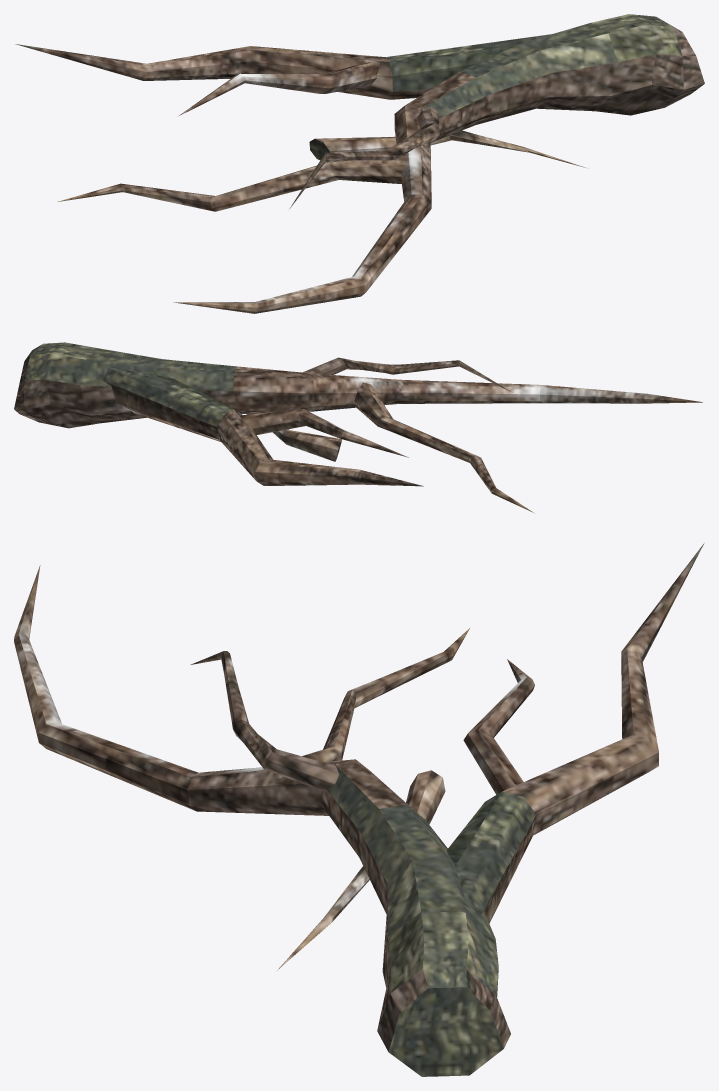
Rendered from Oak_Fallen_001.fbx.
3 views of the same model, one above another, from view 1: azimuth 30°, elevation 25°; view 2: azimuth 150°, elevation 25°; view 3: azimuth 270°, elevation 25° (orthographic). The views are drawn at different scales.
Parts seen in each view (by area): view 1: Tree_Oak_DeadTrunk; view 2: Tree_Oak_DeadTrunk; view 3: Tree_Oak_DeadTrunk.
Boxes of the visible parts, bbox=[...] form: Tree_Oak_DeadTrunk: bbox=[15, 14, 704, 313]; Tree_Oak_DeadTrunk: bbox=[14, 342, 702, 512]; Tree_Oak_DeadTrunk: bbox=[14, 543, 704, 1076].
Bounding box in the file's own units: 2268 × 393 × 1509.
